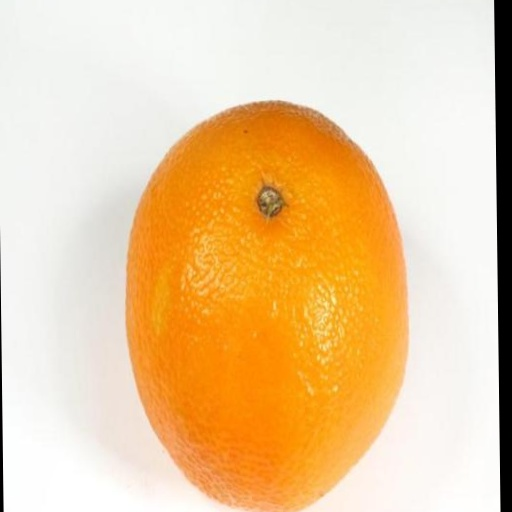fruit: (127, 102, 407, 512)
